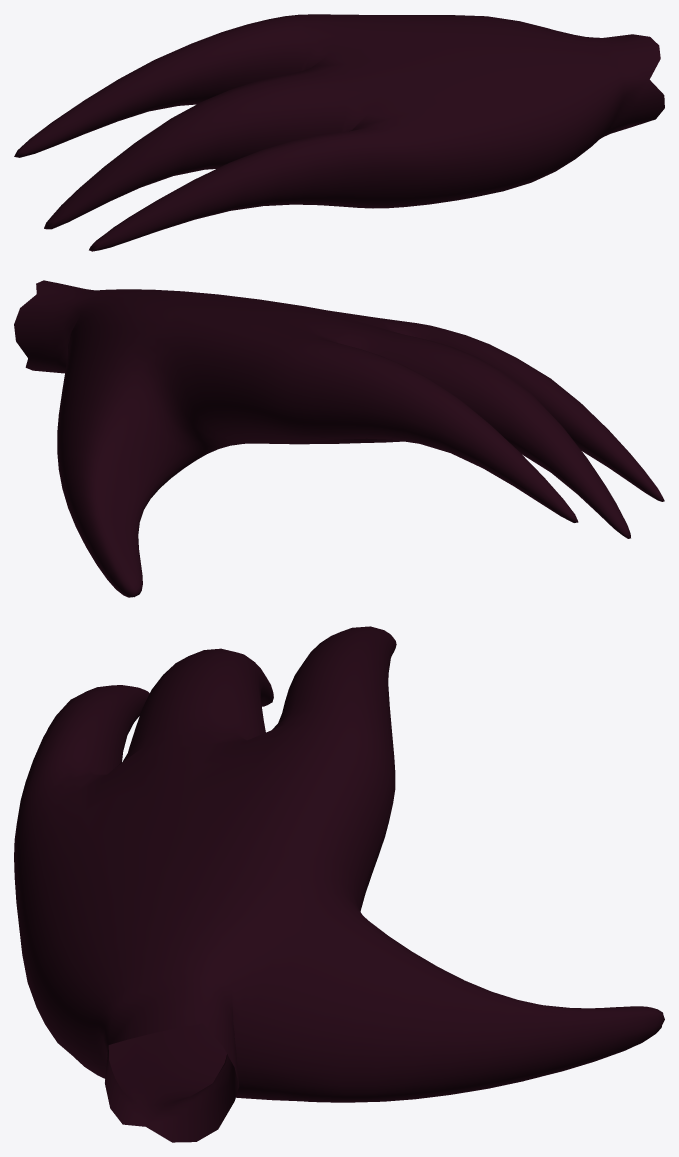
The model's file is Mano izquierda.fbx.
The picture shows the model from 3 angles, top to bottom: view 1: azimuth 30°, elevation 25°; view 2: azimuth 150°, elevation 25°; view 3: azimuth 270°, elevation 25°; orthographic projection. The views are drawn at different scales.
Parts seen in each view (by area): view 1: Mano izquierda; view 2: Mano izquierda; view 3: Mano izquierda.
Part boxes in pixels (x1,y1,x2,y2): Mano izquierda: (14,14,664,251); Mano izquierda: (14,280,664,597); Mano izquierda: (14,626,664,1142).
Bounding box in the file's own units: 52.84 × 15.61 × 32.92.
